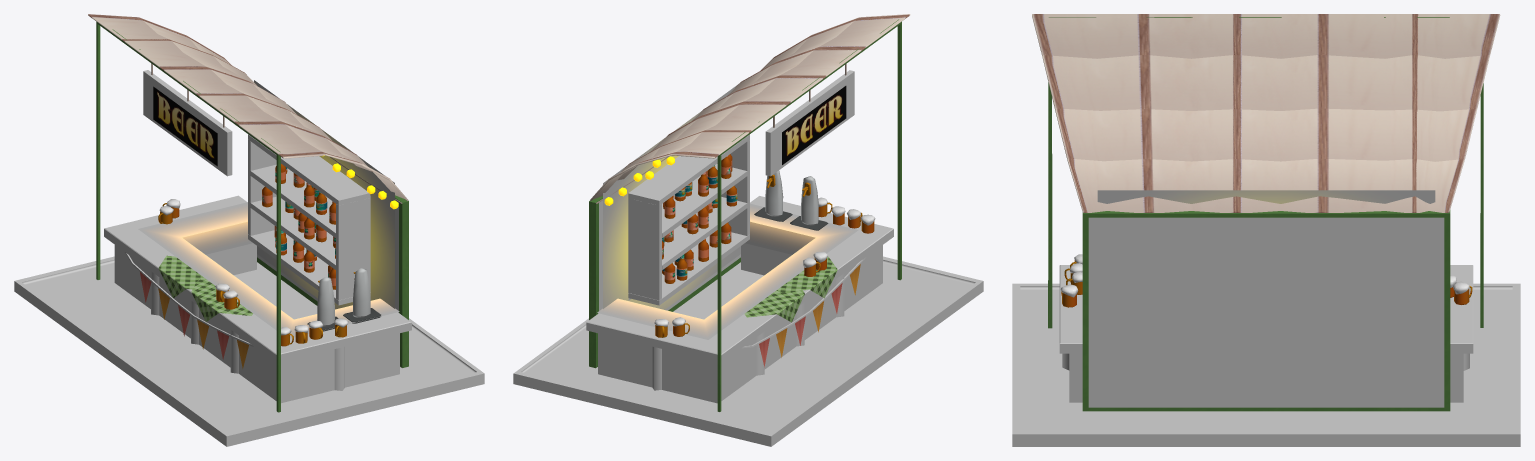
The model's file is Booth_Food01_Art.fbx.
3 views of the same model, side by side, from view 1: azimuth 30°, elevation 25°; view 2: azimuth 150°, elevation 25°; view 3: azimuth 270°, elevation 25° (orthographic). The views are drawn at different scales.
Parts seen in each view (by area): view 1: Oktoberfest_Booth_Food01_Art; view 2: Oktoberfest_Booth_Food01_Art; view 3: Oktoberfest_Booth_Food01_Art.
Boxes of the visible parts, bbox=[...] form: Oktoberfest_Booth_Food01_Art: bbox=[14, 14, 484, 446]; Oktoberfest_Booth_Food01_Art: bbox=[513, 14, 983, 446]; Oktoberfest_Booth_Food01_Art: bbox=[1012, 14, 1520, 446].
Bounding box in the file's own units: 498 × 495 × 711.
